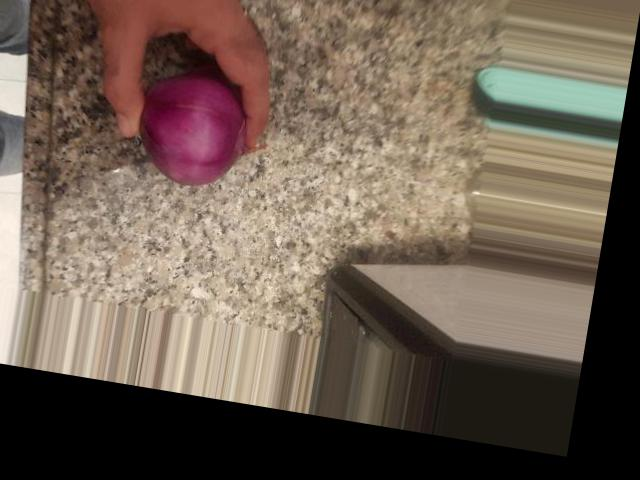onion: (117, 71, 262, 192)
